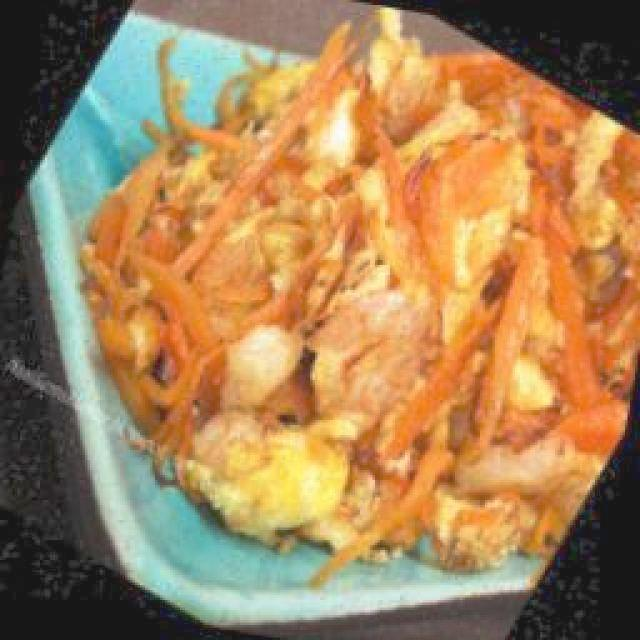carrot_eggs: (79, 11, 637, 584)
